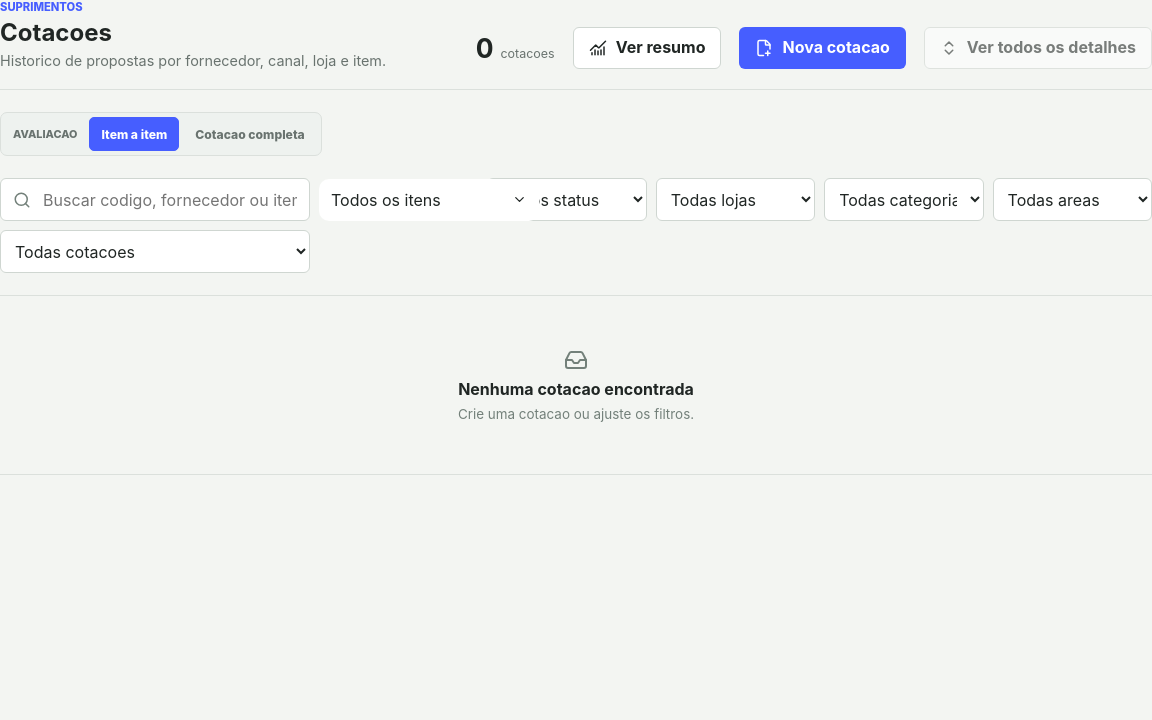
Test: SupplyQuotesPage › mantem o modal aberto ao aplicar prospectores sem perfil de frete
This screenshot has width=1152, height=720.
Click the button "Nova cotacao" at (823, 48), box [740,27,906,69]
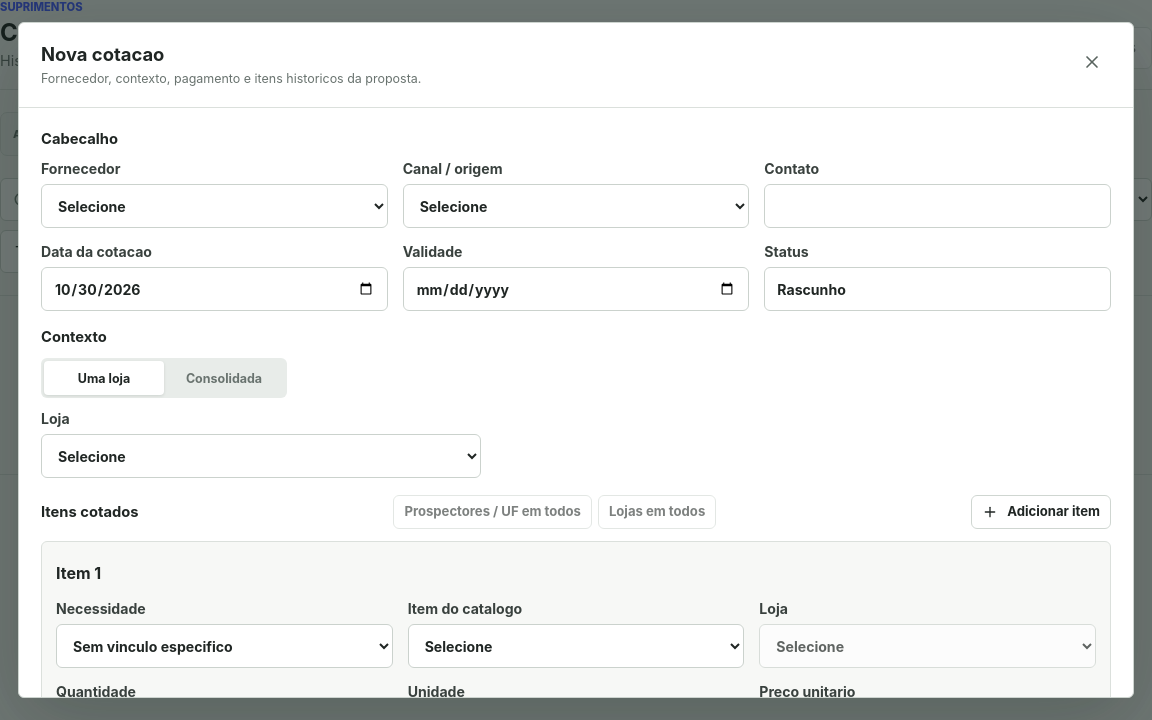
Click the button "Consolidada" at (224, 378), box [164,361,284,395]
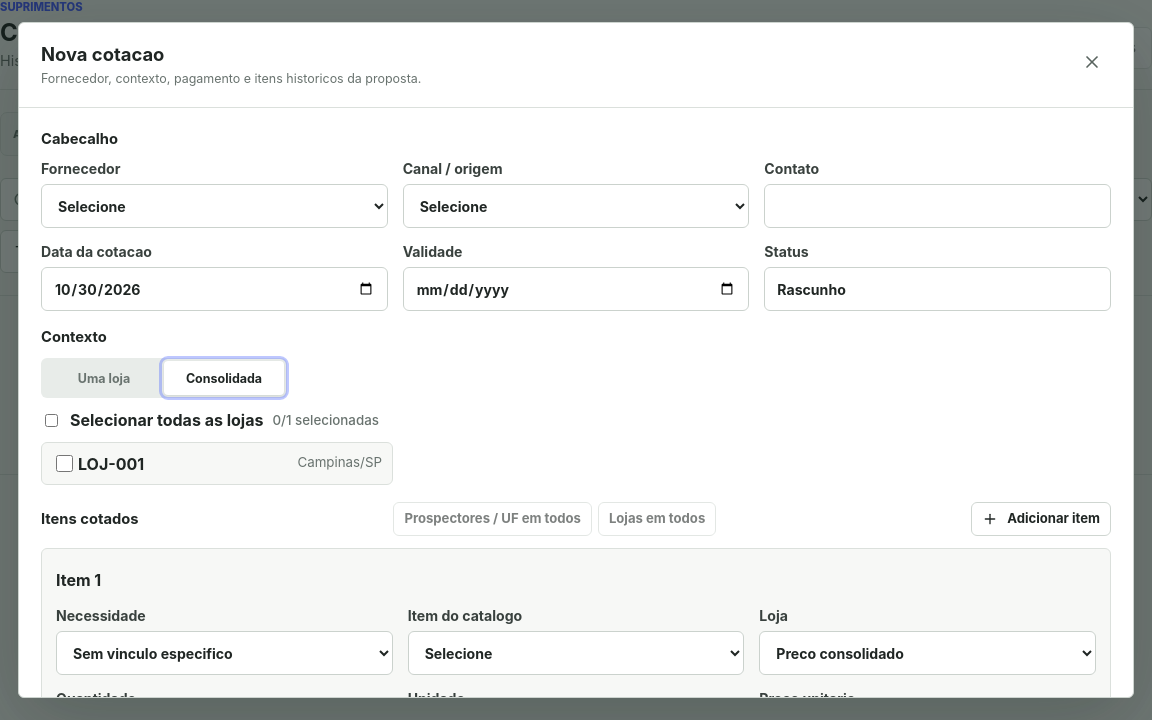
Click the checkbox labelled "Selecionar todas as lojas 0/1 selecionadas" at (52, 420), box [45,414,58,427]
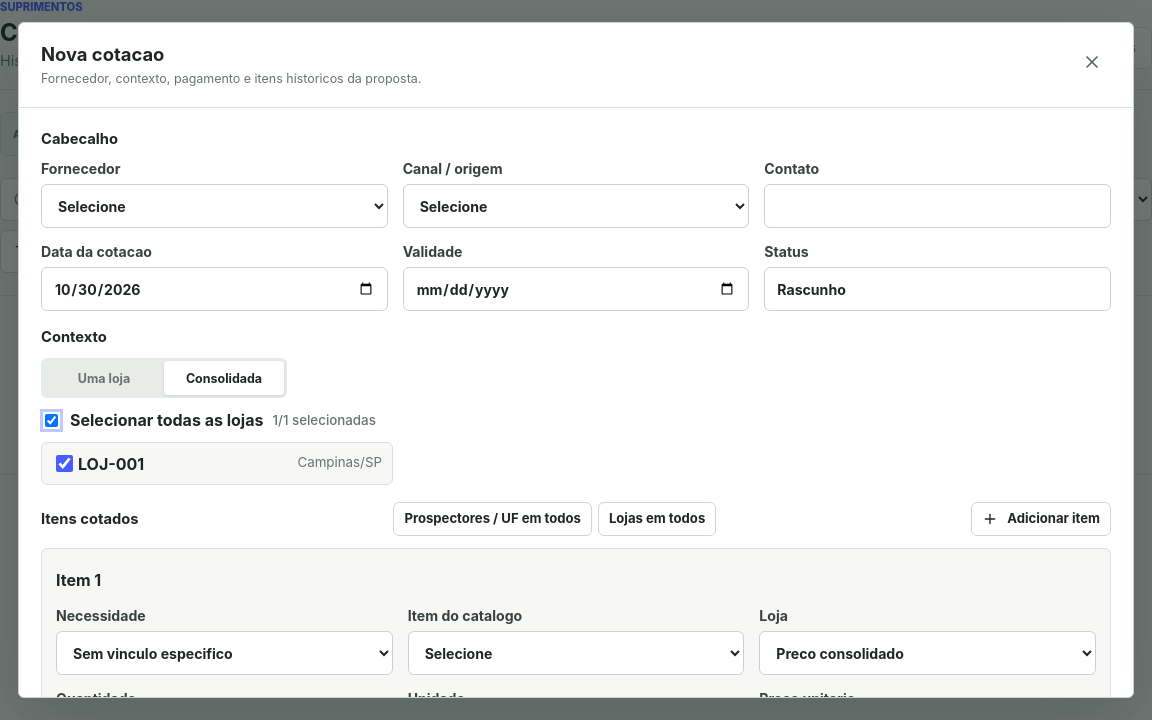
Click the button "Prospectores / UF em todos" at (493, 519), box [393,502,592,536]
(page scrolled)
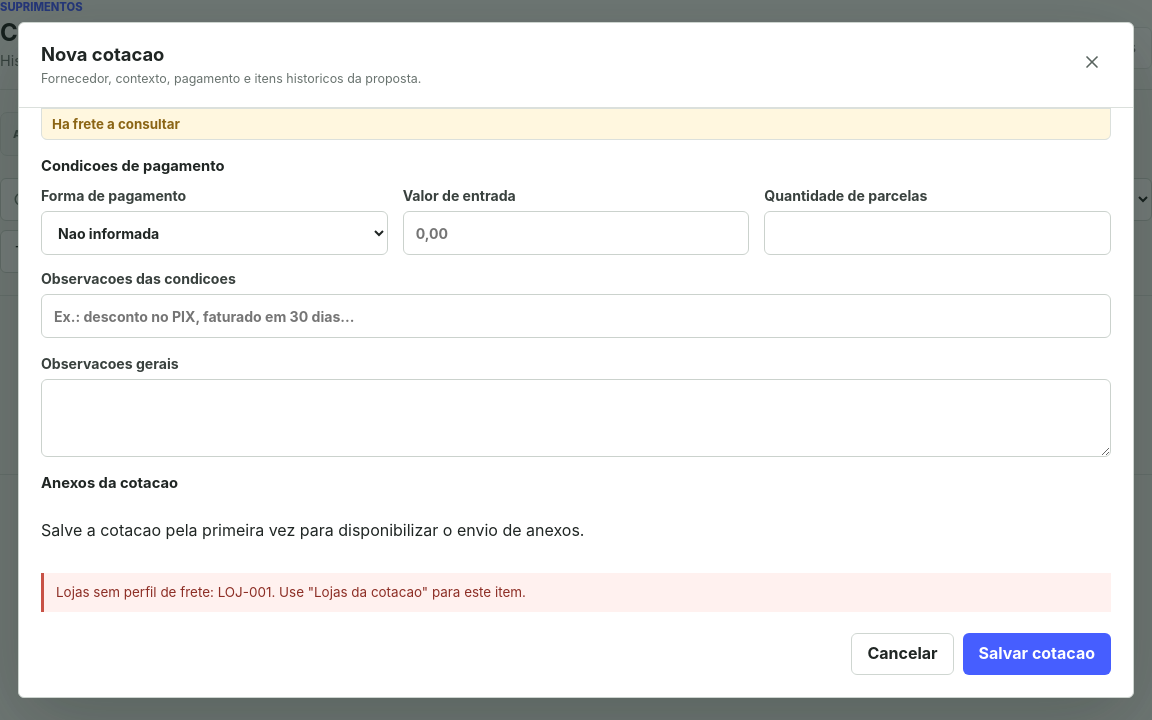
Now the dialog "Nova cotacao" is shown
Now the text "Lojas sem perfil de frete: LOJ-001. Use \"Lojas da cotacao\" para este item." is shown, box [41,573,1111,612]
